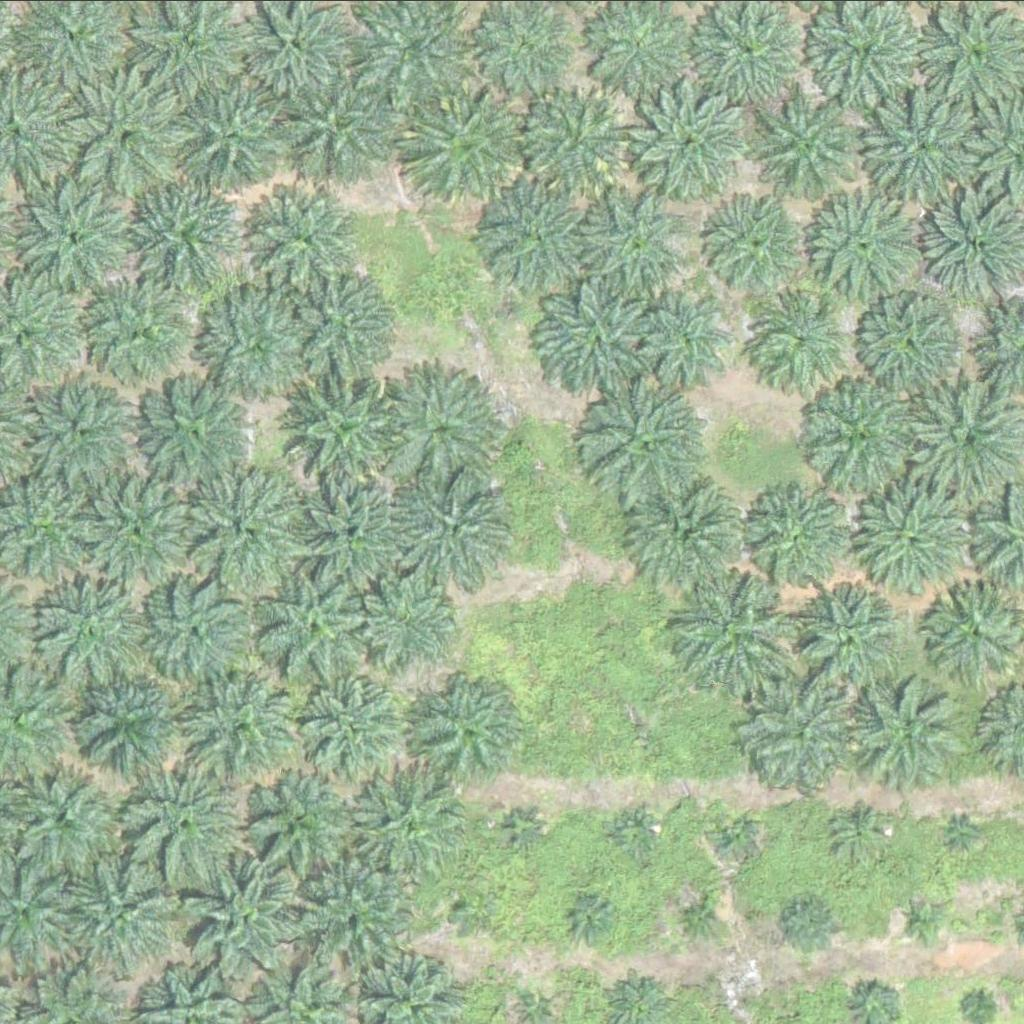Kelapa_Sawit: (54, 849, 180, 974), (189, 854, 315, 979), (304, 854, 430, 979), (119, 757, 245, 882), (232, 767, 358, 892), (36, 571, 162, 696), (256, 566, 382, 691), (76, 461, 202, 586), (184, 462, 310, 587), (392, 466, 518, 591), (277, 367, 403, 492), (381, 363, 507, 488), (66, 74, 192, 199), (535, 276, 661, 401), (588, 382, 714, 507), (673, 565, 799, 690), (796, 373, 922, 498), (77, 275, 202, 400), (195, 286, 320, 411), (410, 83, 535, 208), (293, 677, 407, 790), (186, 665, 300, 778), (355, 564, 469, 677), (627, 475, 741, 588), (412, 673, 525, 786), (74, 662, 187, 775), (140, 378, 253, 491), (26, 377, 139, 490), (285, 272, 398, 385), (629, 81, 742, 194), (756, 84, 869, 197), (869, 90, 982, 203), (803, 191, 916, 304), (854, 485, 967, 598), (360, 767, 473, 879), (144, 573, 257, 685), (300, 481, 413, 593), (248, 182, 361, 294), (123, 175, 236, 287), (20, 183, 133, 295), (180, 78, 293, 190), (278, 71, 391, 183), (746, 677, 859, 789), (852, 668, 965, 780), (524, 90, 625, 190), (486, 180, 587, 280), (584, 192, 685, 292), (705, 196, 806, 296), (637, 290, 738, 390), (796, 587, 897, 687), (752, 292, 852, 392), (861, 294, 961, 394), (745, 488, 845, 588), (778, 893, 841, 956), (835, 807, 886, 857), (670, 891, 721, 941), (561, 893, 611, 943), (708, 807, 758, 857), (498, 804, 548, 854), (609, 808, 659, 858), (444, 885, 494, 935), (898, 896, 948, 946), (724, 986, 749, 1011), (953, 820, 978, 845), (967, 997, 992, 1022)
